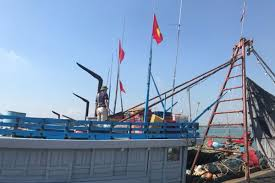tau_dansu: (20, 88, 275, 183)
